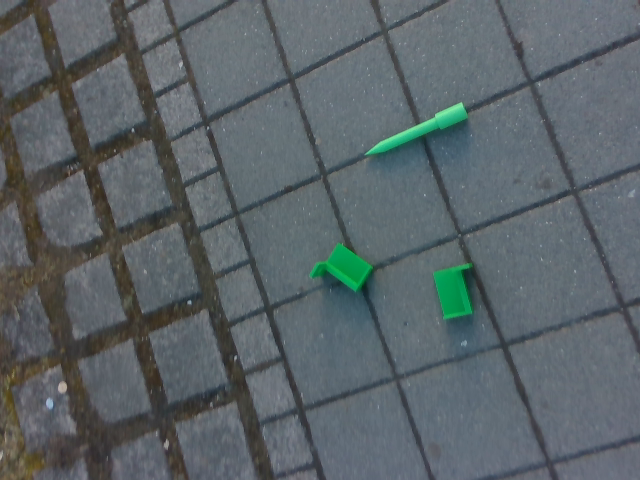Probe: (359, 94, 470, 169)
